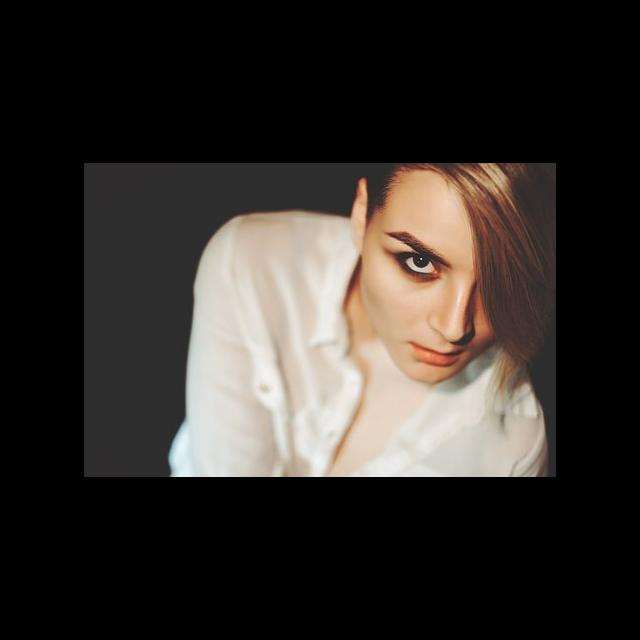female: (317, 163, 556, 369)
